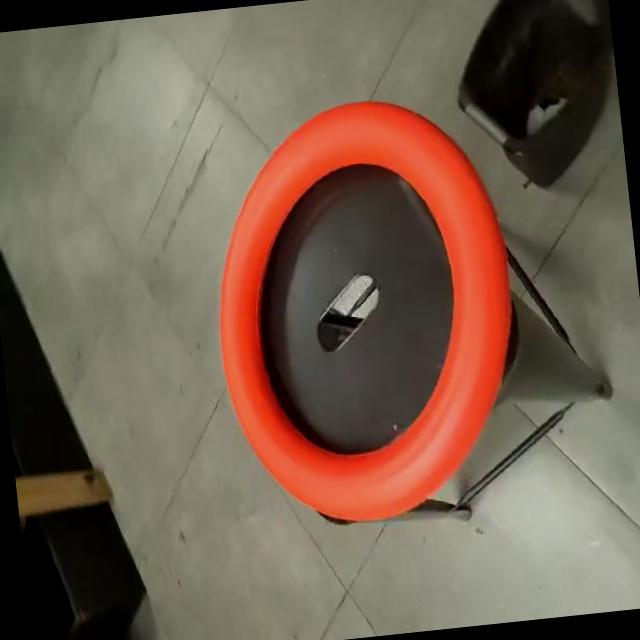note: (195, 84, 534, 536)
